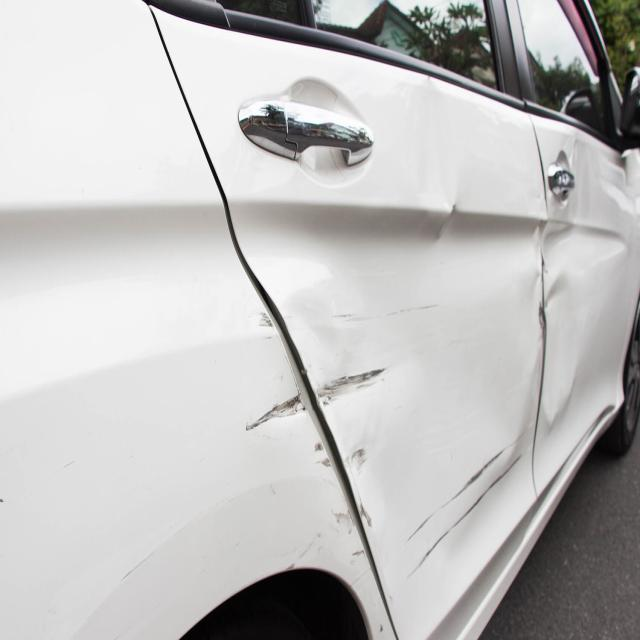dent: (501, 124, 639, 464), (290, 301, 393, 451), (406, 78, 468, 253)
scratch: (406, 454, 523, 581), (407, 425, 530, 543), (284, 492, 356, 571), (245, 352, 308, 431), (313, 367, 391, 409), (343, 443, 373, 531), (327, 302, 440, 322), (118, 547, 160, 583), (349, 547, 372, 587), (258, 310, 276, 331), (538, 302, 547, 332), (63, 459, 76, 469), (263, 337, 273, 340)
